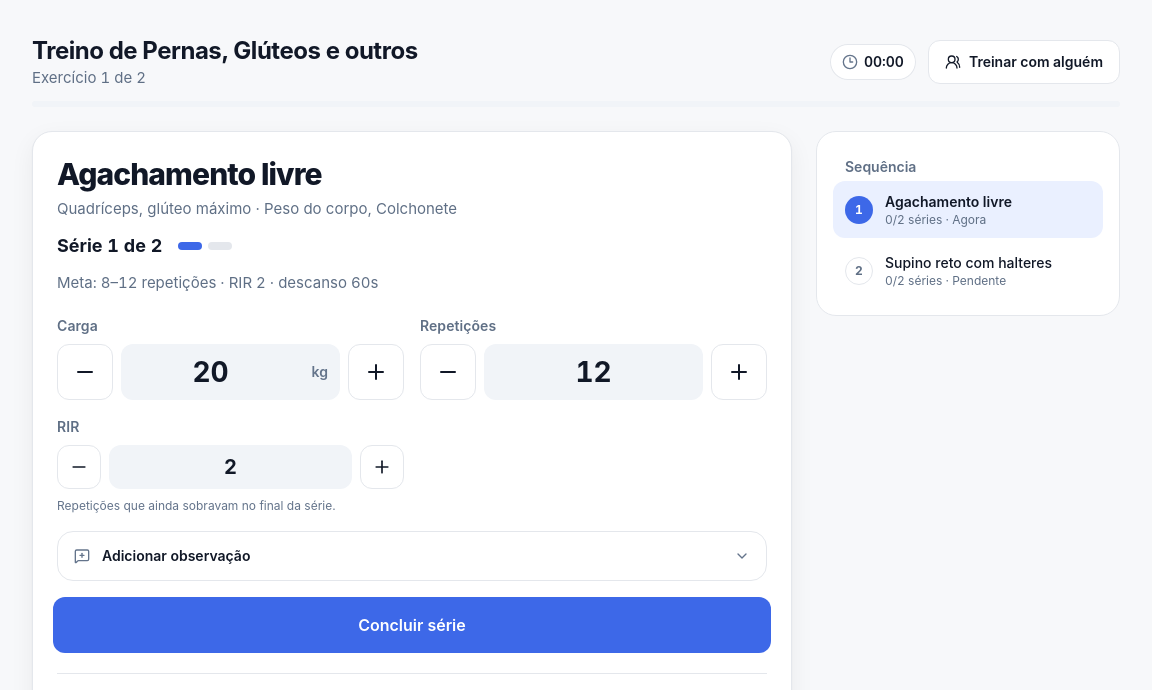
WorkoutPageClient › keeps the set on the device and says so when the network fails
expect the button "Concluir série" is shown: met, box left=53, top=596, right=771, bottom=652
Replace the text in the number field labelled "Carga" with "40" at (230, 372), box left=121, top=344, right=340, bottom=400
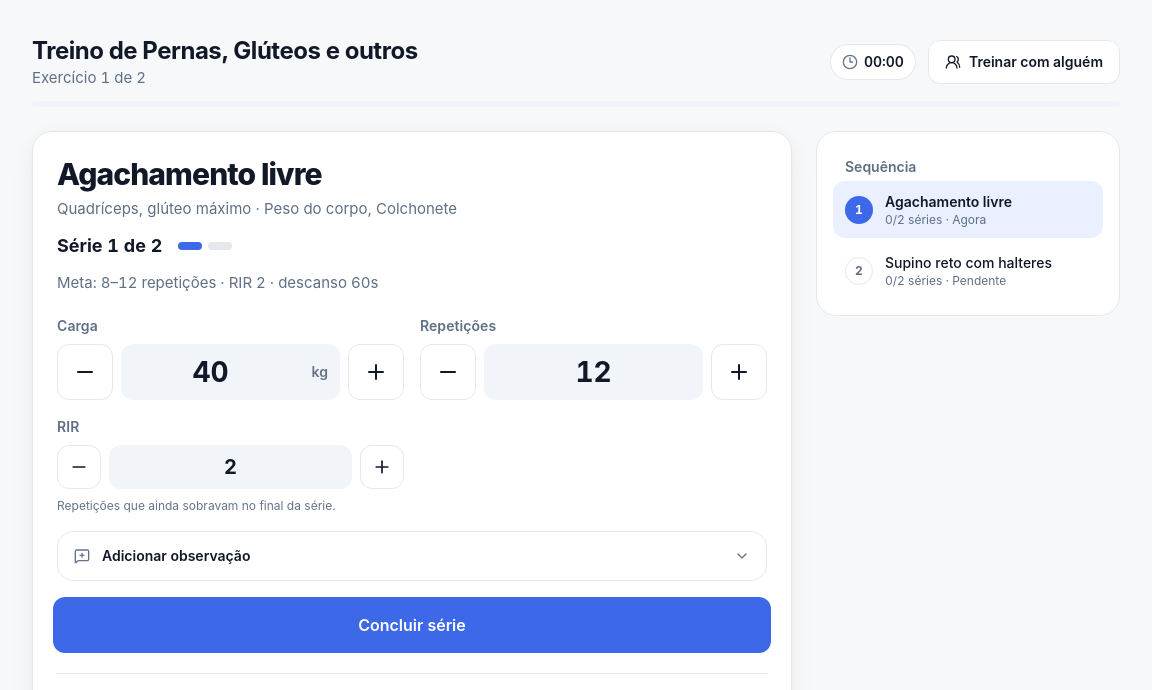
Click the button "Concluir série" at (412, 624), box left=53, top=596, right=771, bottom=652
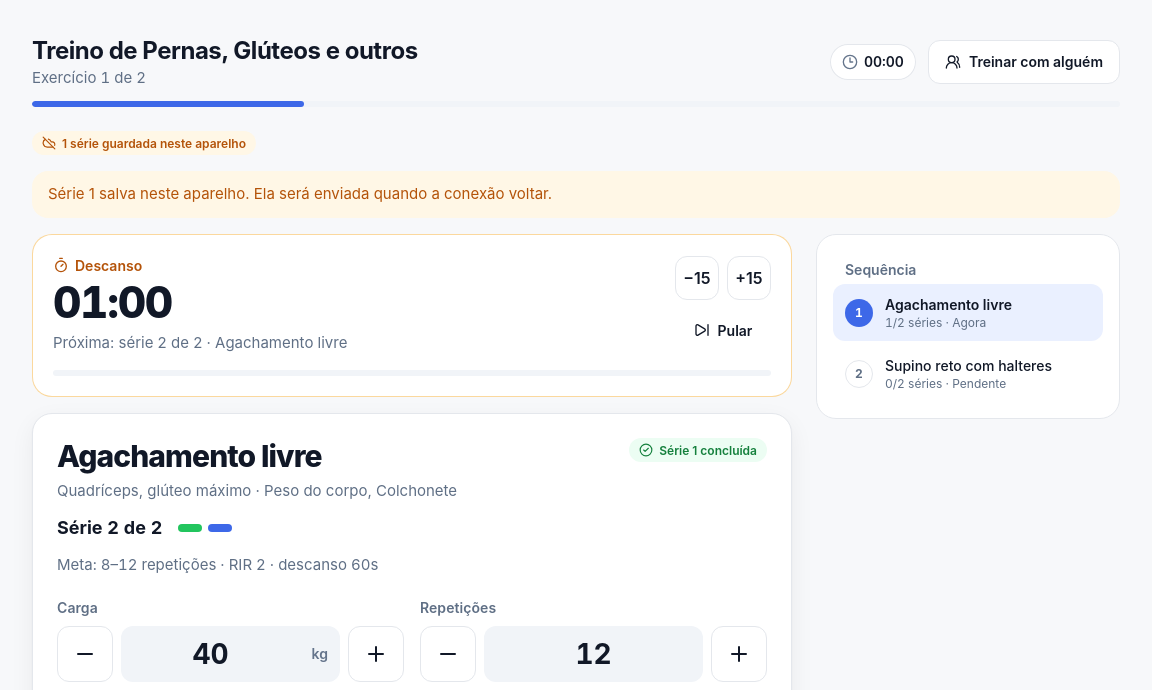
expect the text "Série 1 salva neste aparelho. Ela será enviada quando a conexão voltar." is shown: met, box left=32, top=171, right=1120, bottom=218
